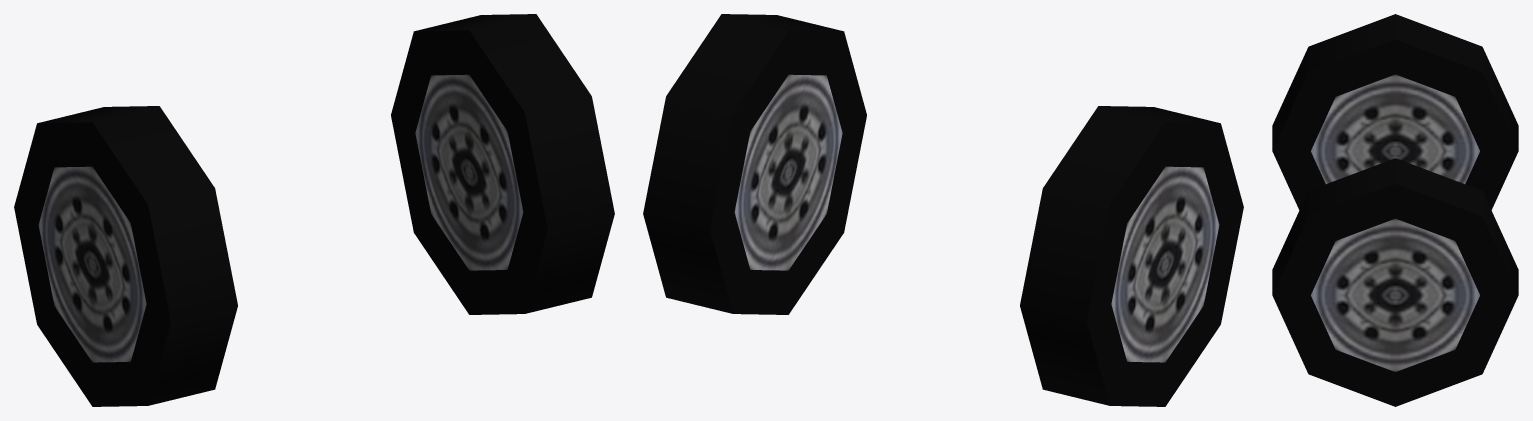
Rendered from tanktruck_tire.fbx.
3 views of the same model, side by side, from view 1: azimuth 30°, elevation 25°; view 2: azimuth 150°, elevation 25°; view 3: azimuth 270°, elevation 25° (orthographic). The views are drawn at different scales.
Parts seen in each view (by area): view 1: sdef:tire_fl, sdef:tire_fr; view 2: sdef:tire_fl, sdef:tire_fr; view 3: sdef:tire_fl, sdef:tire_fr.
Boxes of the visible parts, x1,y1,x2,y2 form: sdef:tire_fl: (391, 14, 614, 314); sdef:tire_fr: (14, 106, 237, 406); sdef:tire_fl: (643, 14, 866, 314); sdef:tire_fr: (1020, 106, 1243, 406); sdef:tire_fl: (1272, 158, 1518, 406); sdef:tire_fr: (1272, 14, 1518, 209).
Size of the model in its own units: 187 by 115 by 115.
Materials: 2 (2 with a texture image).
